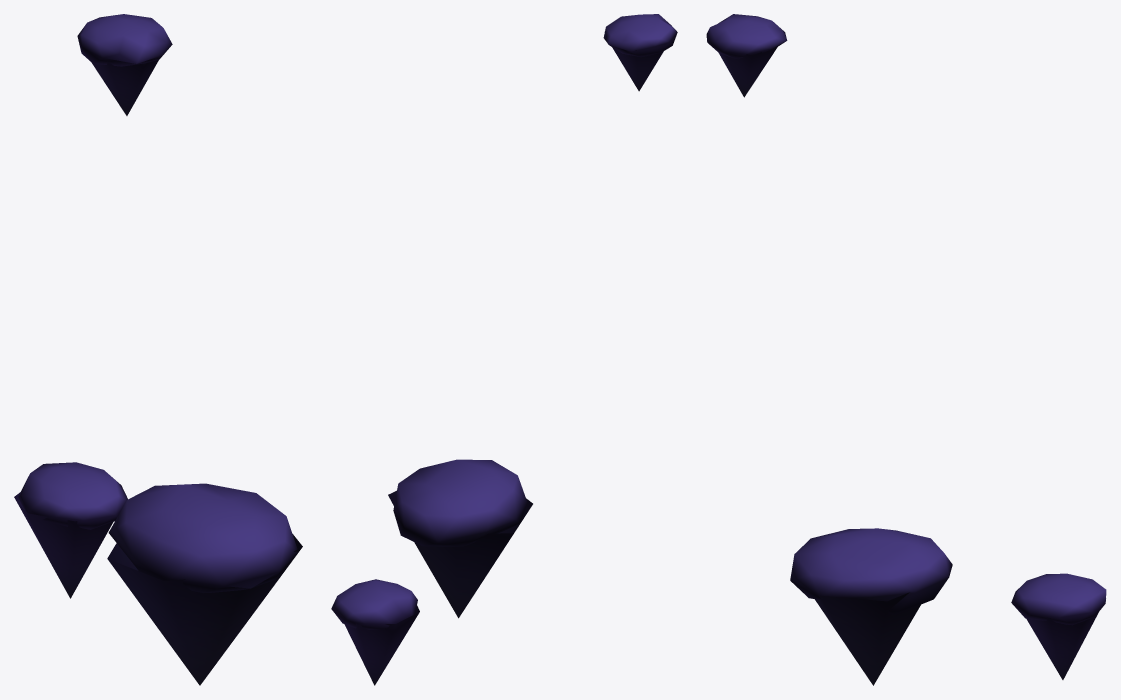
File: MODULE_ALIEN_VOID_ROCKS.fbx
The picture shows the model from 3 angles, left to right: view 1: azimuth 30°, elevation 25°; view 2: azimuth 150°, elevation 25°; view 3: azimuth 270°, elevation 25°; orthographic projection. The views are drawn at different scales.
Parts seen in each view (by area): view 1: MODULE_ALIEN_VOID_ROCKS_DECOR__export; view 2: MODULE_ALIEN_VOID_ROCKS_DECOR__export; view 3: MODULE_ALIEN_VOID_ROCKS_DECOR__export.
Boxes of the visible parts, x1=… form: MODULE_ALIEN_VOID_ROCKS_DECOR__export: x1=14, y1=14, x2=302, y2=685; MODULE_ALIEN_VOID_ROCKS_DECOR__export: x1=331, y1=14, x2=677, y2=685; MODULE_ALIEN_VOID_ROCKS_DECOR__export: x1=706, y1=14, x2=1106, y2=685.
Bounding box in the file's own units: 29.28 × 76.18 × 45.67.
